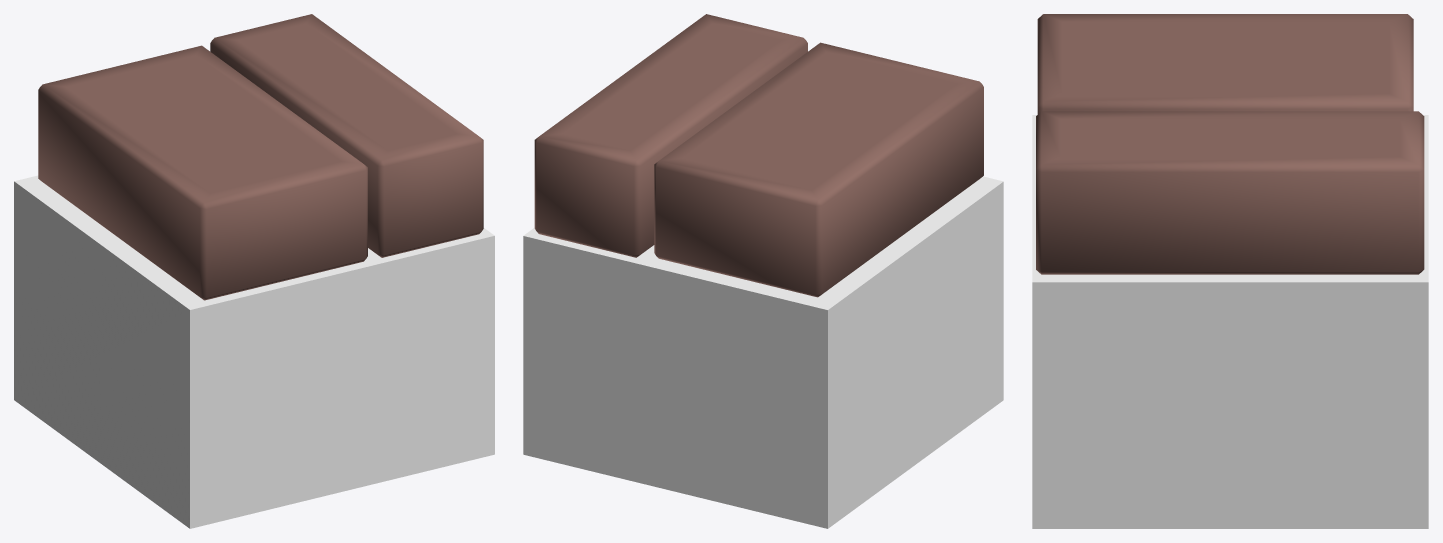
Rendered from Floor22.fbx.
3 views of the same model, side by side, from view 1: azimuth 30°, elevation 25°; view 2: azimuth 150°, elevation 25°; view 3: azimuth 270°, elevation 25° (orthographic). The views are drawn at different scales.
Visible parts, largest first — view 1: Cube.298; view 2: Cube.298; view 3: Cube.298.
Boxes of the visible parts, x1,y1,x2,y2 form: Cube.298: [14, 14, 494, 528]; Cube.298: [523, 14, 1003, 528]; Cube.298: [1032, 14, 1428, 528].
Bounding box in the file's own units: 100 × 99.65 × 100.
